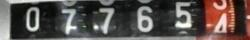digits: (93, 3, 117, 36), (58, 10, 80, 35), (174, 1, 192, 27), (211, 12, 229, 37), (136, 6, 153, 32), (25, 6, 40, 31)
